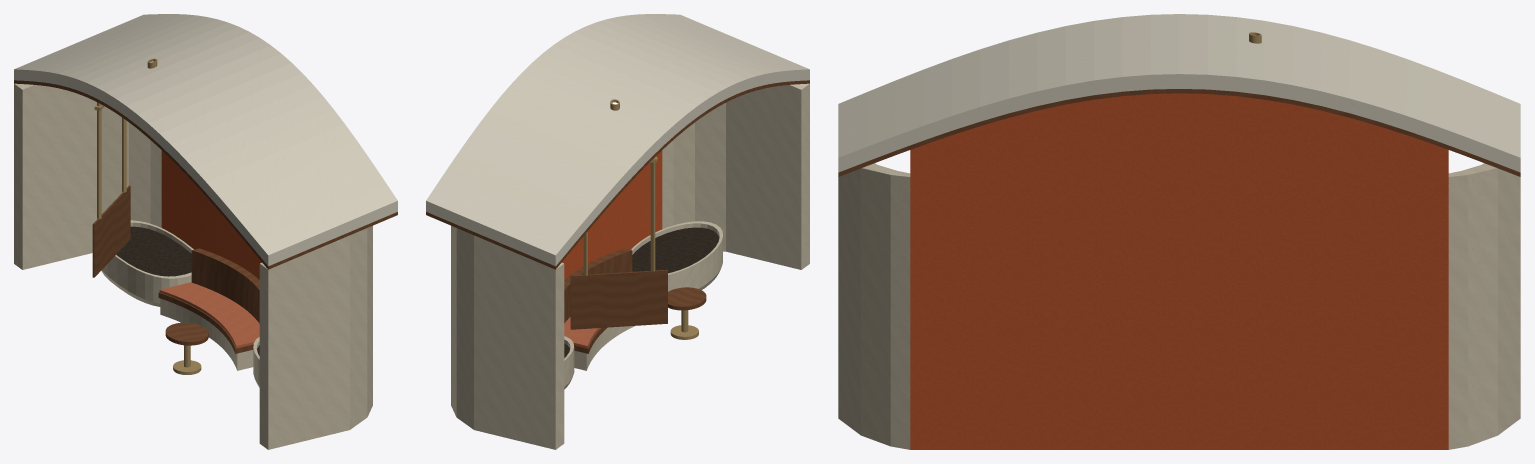
File: AST-AQU-016_east_gallery_rest_bay_r03.glb
3 views of the same model, side by side, from view 1: azimuth 30°, elevation 25°; view 2: azimuth 150°, elevation 25°; view 3: azimuth 270°, elevation 25° (orthographic). The views are drawn at different scales.
Parts seen in each view (by area): view 1: EAST_Bay_PaleFrontCanopy, EAST_Bay_AftSweptReturn, EAST_Bay_ForeSweptReturn, EAST_Bay_CurvedClayBack, EAST_Bench_WalnutBack, EAST_Bench_ClayUpholstery, EAST_ForeSoilBed_Soil, EAST_ForeSoilBed_Container, EAST_Display_AngledReceiver, EAST_Bay_WarmRearCanopy, EAST_Bench_StonePlinth, EAST_Table_WalnutTop (+2 smaller); view 2: EAST_Bay_PaleFrontCanopy, EAST_Bay_ForeSweptReturn, EAST_Bay_AftSweptReturn, EAST_Display_AngledReceiver, EAST_Bay_CurvedClayBack, EAST_AftSoilBed_Soil, EAST_AftSoilBed_Container, EAST_Bay_WarmRearCanopy, EAST_Bench_WalnutBack, EAST_Table_WalnutTop, EAST_Bench_StonePlinth, EAST_Display_Hanger_Aft (+2 smaller); view 3: EAST_Bay_CurvedClayBack, EAST_Bay_PaleFrontCanopy, EAST_Bay_RearHeader, EAST_Bay_AftSweptReturn, EAST_Bay_ForeSweptReturn, EAST_Bay_WarmRearCanopy.
Boxes of the visible parts, x1,y1,x2,y2 form: EAST_Bay_PaleFrontCanopy: (14,14,397,266); EAST_Bay_AftSweptReturn: (259,225,372,449); EAST_Bay_ForeSweptReturn: (14,83,161,269); EAST_Bay_CurvedClayBack: (161,150,261,279); EAST_Bench_WalnutBack: (191,248,259,323); EAST_Bench_ClayUpholstery: (159,282,259,348); EAST_ForeSoilBed_Soil: (116,226,191,276); EAST_ForeSoilBed_Container: (101,220,193,306); EAST_Display_AngledReceiver: (92,185,130,277); EAST_Bay_WarmRearCanopy: (14,80,397,269); EAST_Bench_StonePlinth: (160,298,253,370); EAST_Table_WalnutTop: (165,322,208,345); EAST_Bay_PaleFrontCanopy: (426,14,809,266); EAST_Bay_ForeSweptReturn: (451,225,564,449); EAST_Bay_AftSweptReturn: (662,83,809,269); EAST_Display_AngledReceiver: (570,269,667,329); EAST_Bay_CurvedClayBack: (562,150,662,279); EAST_AftSoilBed_Soil: (632,227,719,273); EAST_AftSoilBed_Container: (631,221,722,291); EAST_Bay_WarmRearCanopy: (426,80,809,269); EAST_Bench_WalnutBack: (564,248,632,323); EAST_Table_WalnutTop: (668,287,706,310); EAST_Bench_StonePlinth: (574,326,634,370); EAST_Display_Hanger_Aft: (650,162,655,271); EAST_Bay_CurvedClayBack: (910,182,1448,449); EAST_Bay_PaleFrontCanopy: (838,14,1520,172); EAST_Bay_RearHeader: (910,93,1448,181); EAST_Bay_AftSweptReturn: (838,163,910,449); EAST_Bay_ForeSweptReturn: (1448,163,1520,449); EAST_Bay_WarmRearCanopy: (838,89,1520,176).
Bounding box in the file's own units: 3 × 5.47 × 9.
8 materials, 7 textured.
